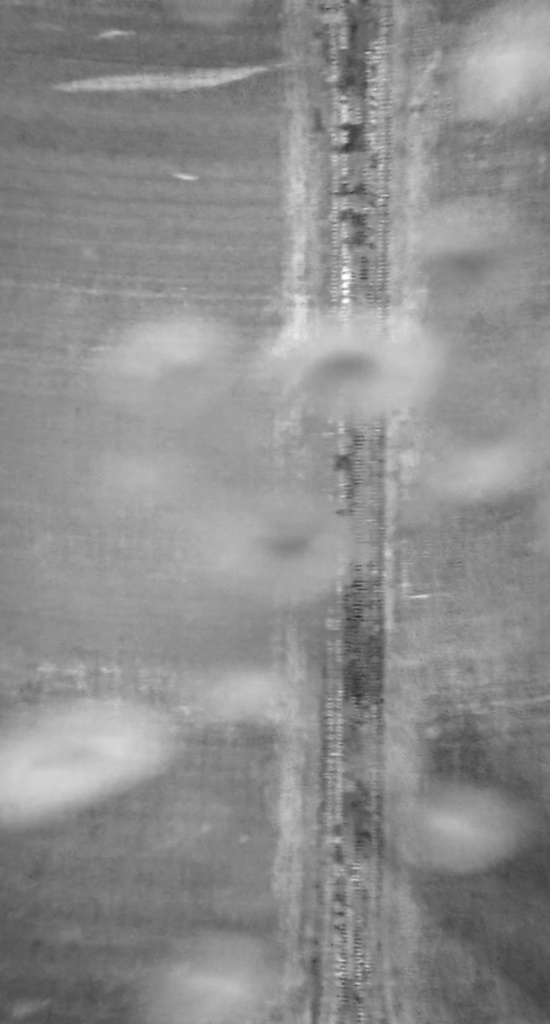splice: (308, 1, 405, 1024)
